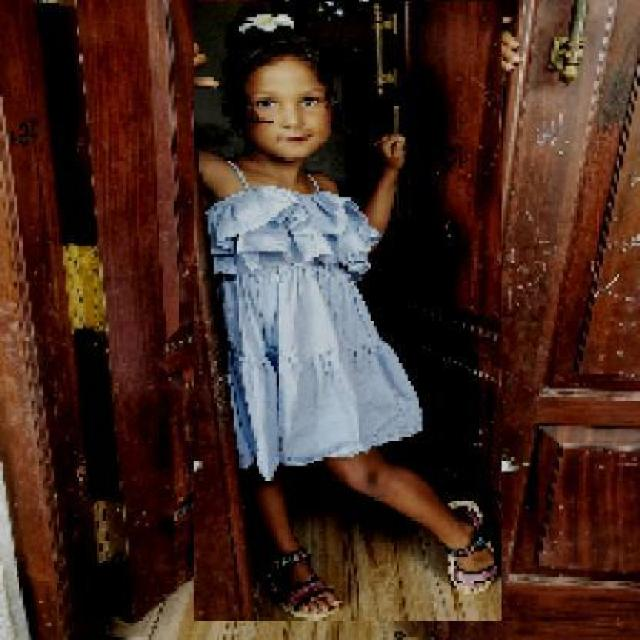child: (193, 1, 502, 622)
